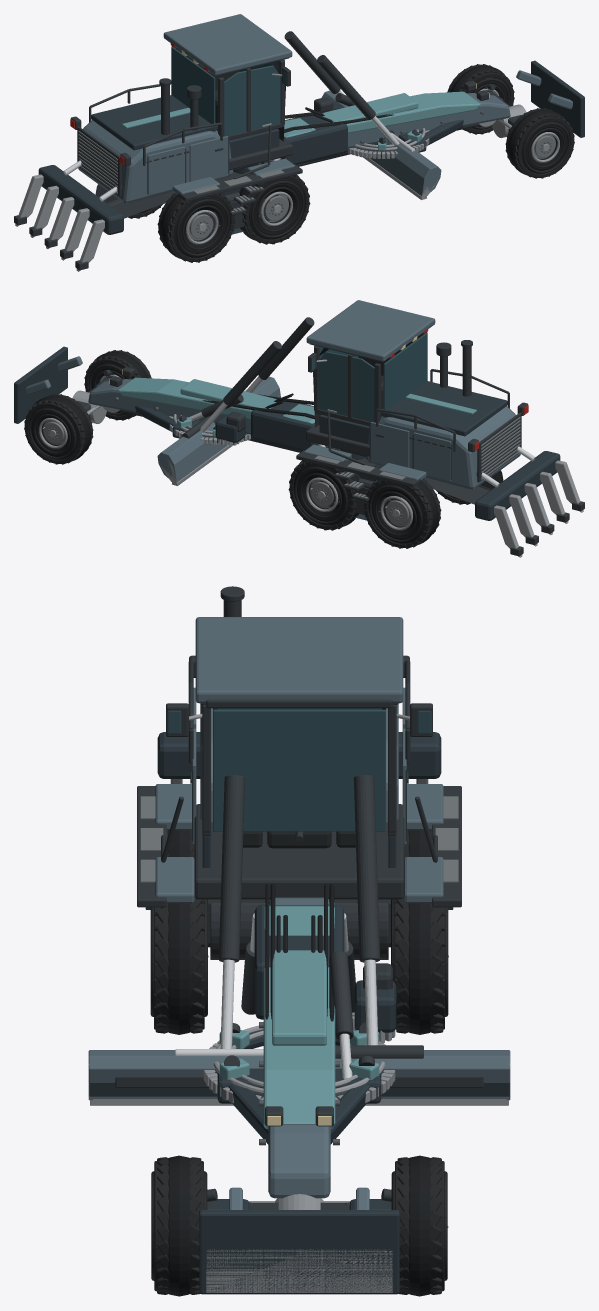
File: cat-140-structural-study.glb
3 renders of one model, top to bottom at view 1: azimuth 30°, elevation 25°; view 2: azimuth 150°, elevation 25°; view 3: azimuth 270°, elevation 25°, orthographic. The views are drawn at different scales.
Parts seen in each view (by area): view 1: Cab_Roof, Cab_Side_Glass_R, Engine_Hood_Core, Engine_Hood_Crown, Front_Frame_Upper_Flange, Front_Frame_Box, Rear_Ripper_Beam, Front_Frame_Fuel_Tank, Moldboard_Curved_Shell, Cab_Rear_Glass, Push_Block_Main_Plate, Rear_R_Rear_Tire_Carcass (+30 smaller); view 2: Cab_Roof, Engine_Hood_Crown, Cab_Side_Glass_L, Engine_Hood_Core, Front_Frame_Upper_Flange, Cab_Rear_Glass, Moldboard_Curved_Shell, Rear_Ripper_Beam, Front_Frame_Fuel_Tank, Push_Block_Main_Plate, Rear_L_Rear_Tire_Carcass, Front_Frame_Box (+31 smaller); view 3: Cab_Front_Glass, Cab_Roof, Push_Block_Main_Plate, Moldboard_Curved_Shell, Cab_Floor, Push_Block_Wear_Face, Front_Frame_Upper_Flange, Front_Frame_Service_Top, Front_Frame_Box, Blade_Lift_R_Barrel, Blade_Lift_L_Barrel, Rear_Ripper_Beam (+27 smaller).
Boxes of the visible parts, bbox=[...] form: Cab_Roof: bbox=[163, 14, 292, 75]; Cab_Side_Glass_R: bbox=[224, 65, 280, 136]; Engine_Hood_Core: bbox=[78, 120, 232, 203]; Engine_Hood_Crown: bbox=[91, 95, 217, 150]; Front_Frame_Upper_Flange: bbox=[284, 91, 480, 137]; Front_Frame_Box: bbox=[263, 93, 510, 162]; Rear_Ripper_Beam: bbox=[38, 165, 123, 234]; Front_Frame_Fuel_Tank: bbox=[281, 110, 347, 164]; Moldboard_Curved_Shell: bbox=[321, 90, 441, 196]; Cab_Rear_Glass: bbox=[171, 47, 215, 131]; Push_Block_Main_Plate: bbox=[531, 60, 584, 137]; Rear_R_Rear_Tire_Carcass: bbox=[160, 193, 230, 258]; Cab_Roof: bbox=[306, 300, 435, 361]; Engine_Hood_Crown: bbox=[381, 381, 507, 436]; Cab_Side_Glass_L: bbox=[318, 351, 374, 422]; Engine_Hood_Core: bbox=[366, 406, 520, 489]; Front_Frame_Upper_Flange: bbox=[118, 377, 314, 423]; Cab_Rear_Glass: bbox=[383, 333, 427, 417]; Moldboard_Curved_Shell: bbox=[157, 376, 280, 482]; Rear_Ripper_Beam: bbox=[475, 451, 560, 520]; Front_Frame_Fuel_Tank: bbox=[251, 396, 317, 450]; Push_Block_Main_Plate: bbox=[14, 346, 67, 423]; Rear_L_Rear_Tire_Carcass: bbox=[368, 479, 438, 544]; Front_Frame_Box: bbox=[88, 379, 335, 448]; Cab_Front_Glass: bbox=[213, 709, 385, 831]; Cab_Roof: bbox=[195, 617, 403, 703]; Push_Block_Main_Plate: bbox=[199, 1210, 399, 1294]; Moldboard_Curved_Shell: bbox=[88, 1050, 510, 1098]; Cab_Floor: bbox=[194, 804, 404, 899]; Push_Block_Wear_Face: bbox=[206, 1249, 392, 1292]; Front_Frame_Upper_Flange: bbox=[263, 903, 335, 1128]; Front_Frame_Service_Top: bbox=[272, 950, 326, 1045]; Front_Frame_Box: bbox=[268, 897, 330, 1198]; Blade_Lift_R_Barrel: bbox=[218, 775, 245, 962]; Blade_Lift_L_Barrel: bbox=[353, 775, 380, 962]; Rear_Ripper_Beam: bbox=[157, 732, 441, 778].
Bounding box in the file's own units: 10.3 × 3.45 × 3.66.
